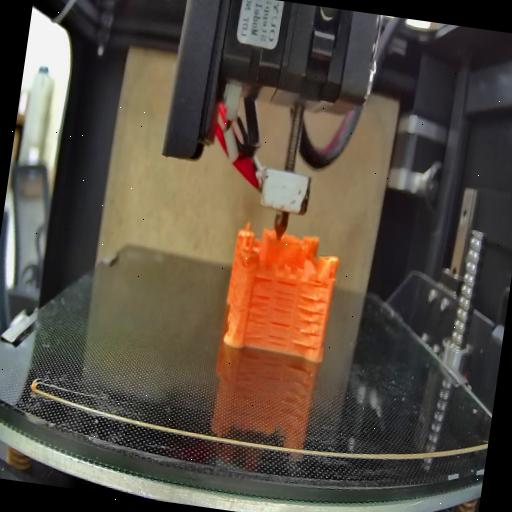cracks: (290, 292, 328, 352), (266, 279, 294, 350), (243, 290, 269, 340), (252, 272, 274, 284)
